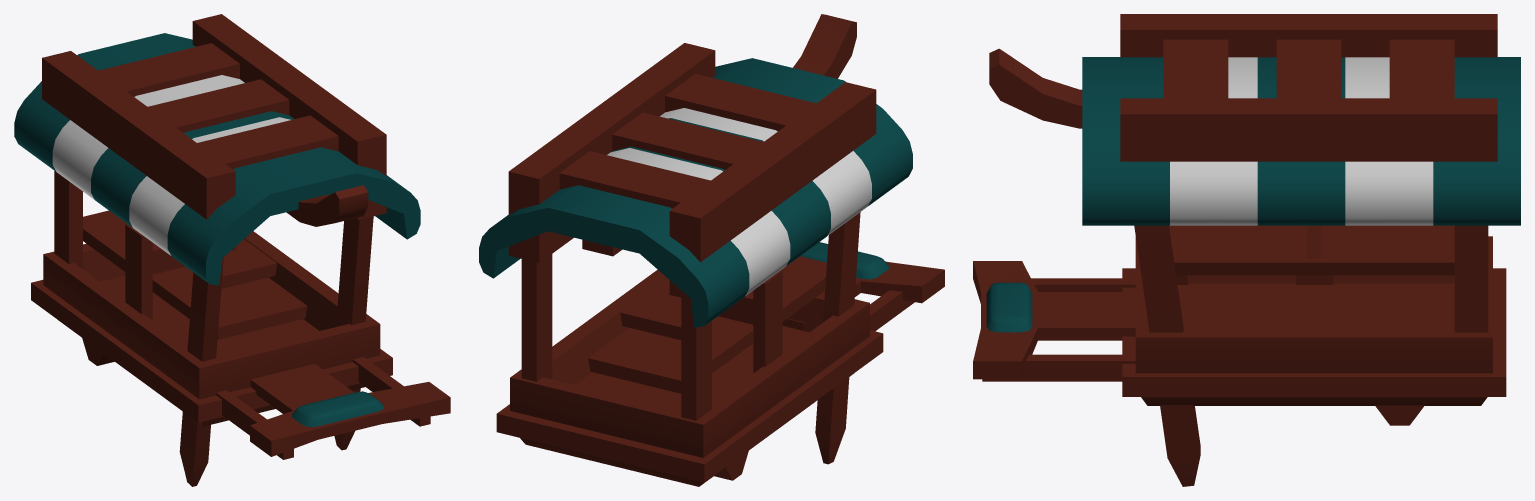
File: wagon.obj
3 views of the same model, side by side, from view 1: azimuth 30°, elevation 25°; view 2: azimuth 150°, elevation 25°; view 3: azimuth 270°, elevation 25° (orthographic). The views are drawn at different scales.
Visible parts, largest first — view 1: wagon_Cube.5956; view 2: wagon_Cube.5956; view 3: wagon_Cube.5956.
Boxes of the visible parts, bbox=[...] form: wagon_Cube.5956: bbox=[14, 14, 450, 486]; wagon_Cube.5956: bbox=[479, 14, 944, 486]; wagon_Cube.5956: bbox=[973, 14, 1520, 486].
Size of the model in its own units: 1.51 by 2.27 by 2.9.
